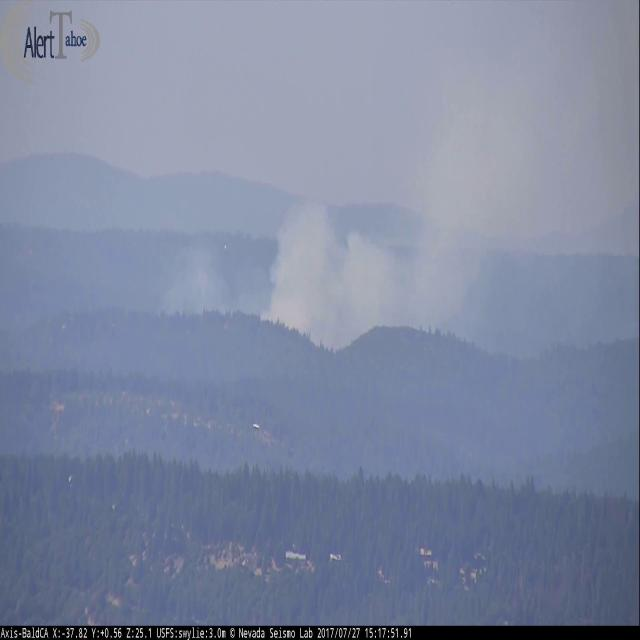smoke: (256, 48, 613, 348), (153, 233, 270, 320)
